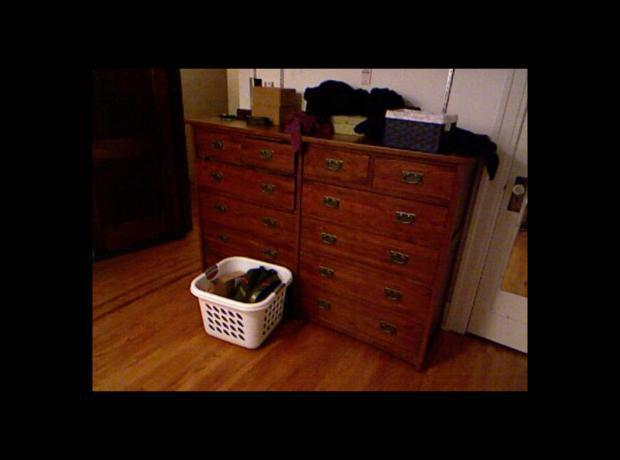Armario: (297, 146, 467, 365), (196, 140, 296, 321)
